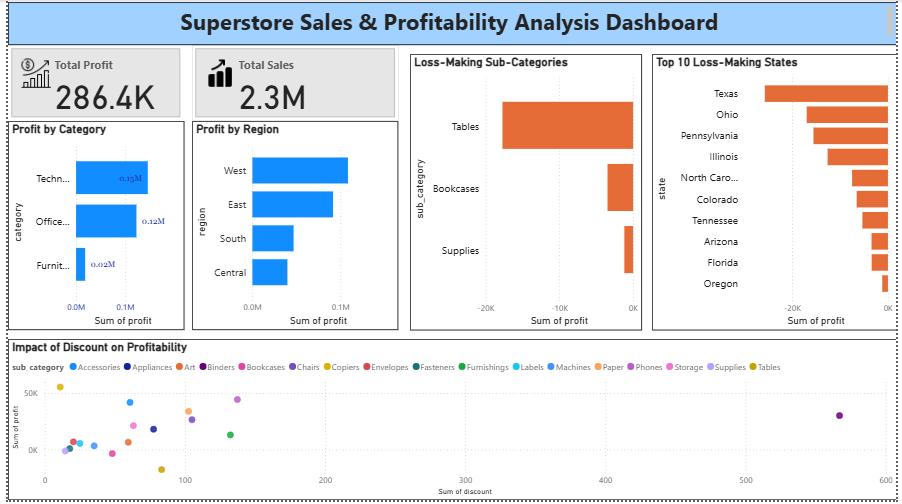

What the dashboard file says about the page in this screenshot:
{"tool":"powerbi","page":{"name":"Page 1","canvas":[1280,720],"ordinal":0},"visuals":[{"type":"cardVisual","title":"Total Sales","fields":{"Data":["Sum(SampleSuperstore.sales)"]},"box":[265.4,65.5,297.3,109.2],"z":0},{"type":"cardVisual","fields":{"Data":["Sum(SampleSuperstore.profit)"]},"box":[0,65.5,253.6,109.2],"z":1000},{"type":"clusteredBarChart","title":"Profit by Category","fields":{"Y":["Sum(SampleSuperstore.profit)"],"Category":["SampleSuperstore.category"]},"box":[0,174.7,253.6,300.7],"z":2000},{"type":"clusteredBarChart","title":"Profit by Region","fields":{"Y":["Sum(SampleSuperstore.profit)"],"Category":["SampleSuperstore.region"]},"box":[265.4,174.7,297.3,300.7],"z":3000},{"type":"clusteredBarChart","title":"Loss-Making Sub-Categories","fields":{"Y":["Sum(SampleSuperstore.profit)"],"Category":["SampleSuperstore.sub_category"]},"box":[579.5,77.3,334.3,398.1],"z":4000},{"type":"scatterChart","title":"Impact of Discount on Profitability","fields":{"Y":["Sum(SampleSuperstore.profit)"],"X":["Sum(SampleSuperstore.discount)"],"Series":["SampleSuperstore.sub_category"]},"box":[0,488.8,1280,231.8],"z":5000},{"type":"clusteredBarChart","title":"Top 10 Loss-Making States","fields":{"Y":["Sum(SampleSuperstore.profit)"],"Category":["SampleSuperstore.state"]},"box":[927.2,77.3,352.8,398.1],"z":6000},{"type":"textbox","box":[0,3.4,1280,73.9],"z":10000},{"type":"qnaVisual","box":[579.5,475.4,334.3,150],"z":10001}]}

Visuals, with their boxes in screenshot pixels (x1, y1, x2, y2), scaled from the page's 1280x720 canvas onto the 902x504 screenshot:
"Total Sales" cardVisual: (187,46,397,122)
cardVisual - Sum(SampleSuperstore.profit): (0,46,179,122)
"Profit by Category" clusteredBarChart: (0,122,179,333)
"Profit by Region" clusteredBarChart: (187,122,397,333)
"Loss-Making Sub-Categories" clusteredBarChart: (408,54,644,333)
"Impact of Discount on Profitability" scatterChart: (0,342,901,503)
"Top 10 Loss-Making States" clusteredBarChart: (653,54,901,333)
textbox: (0,2,901,54)
qnaVisual: (408,333,644,438)
